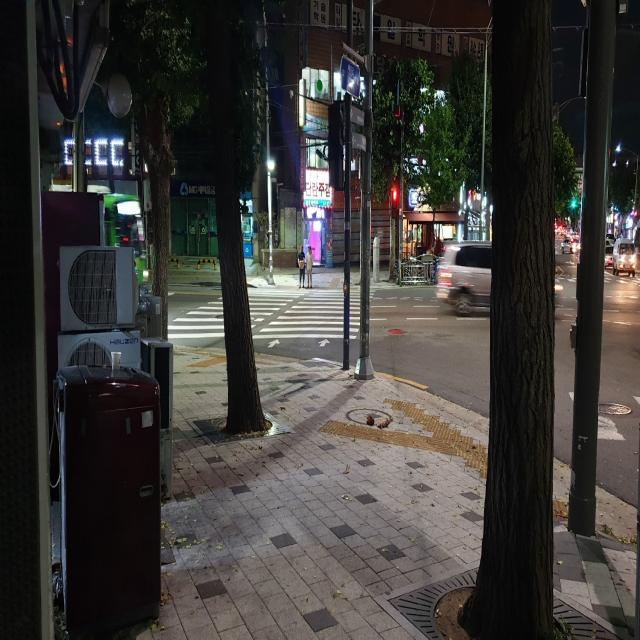빨간불: (392, 192, 398, 220)
횡단보도: (167, 286, 376, 348)
